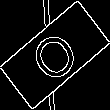O_SE: (24, 21, 86, 89)
